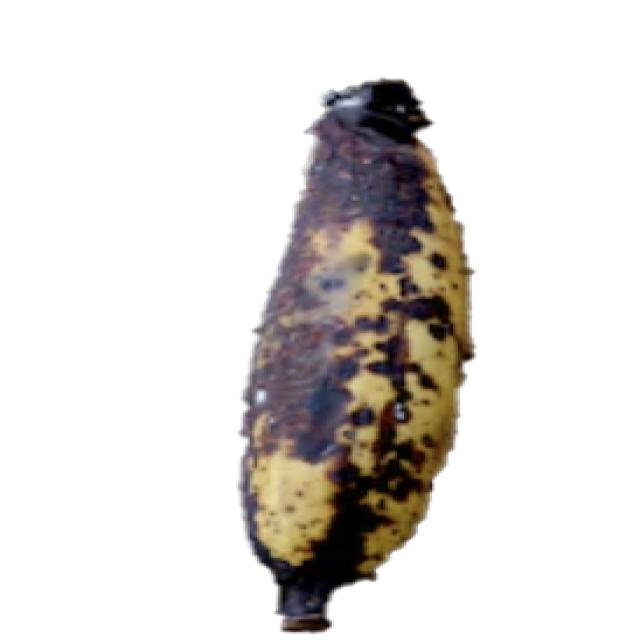rotten-banana: (236, 75, 476, 630)
